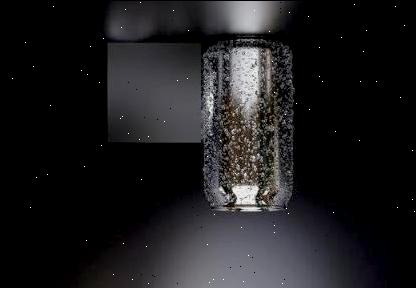Can: (201, 34, 293, 212)
